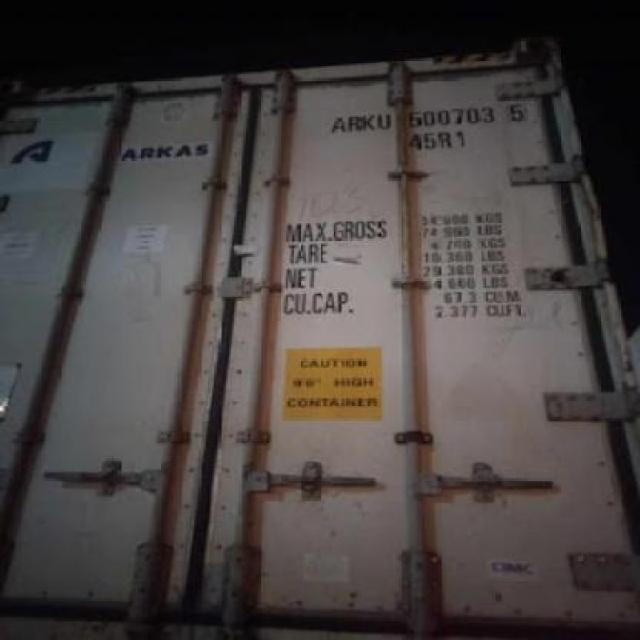ISO: (412, 130, 467, 150)
container_number: (330, 106, 521, 134)
